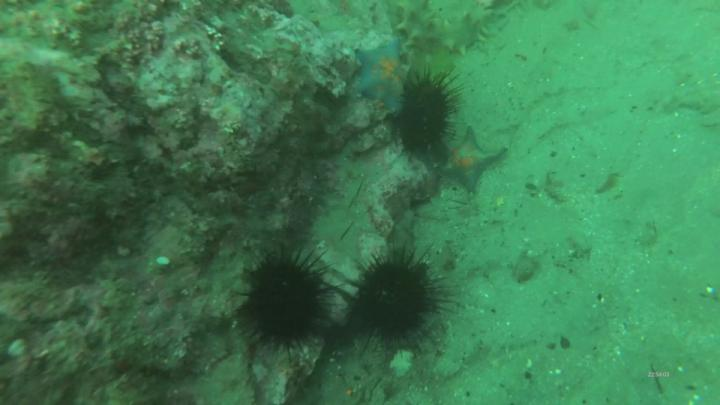echinus: (245, 260, 325, 340), (358, 257, 430, 343), (405, 81, 452, 150)
holothurian: (393, 4, 485, 53)
starfish: (447, 133, 507, 187), (358, 43, 405, 111)
